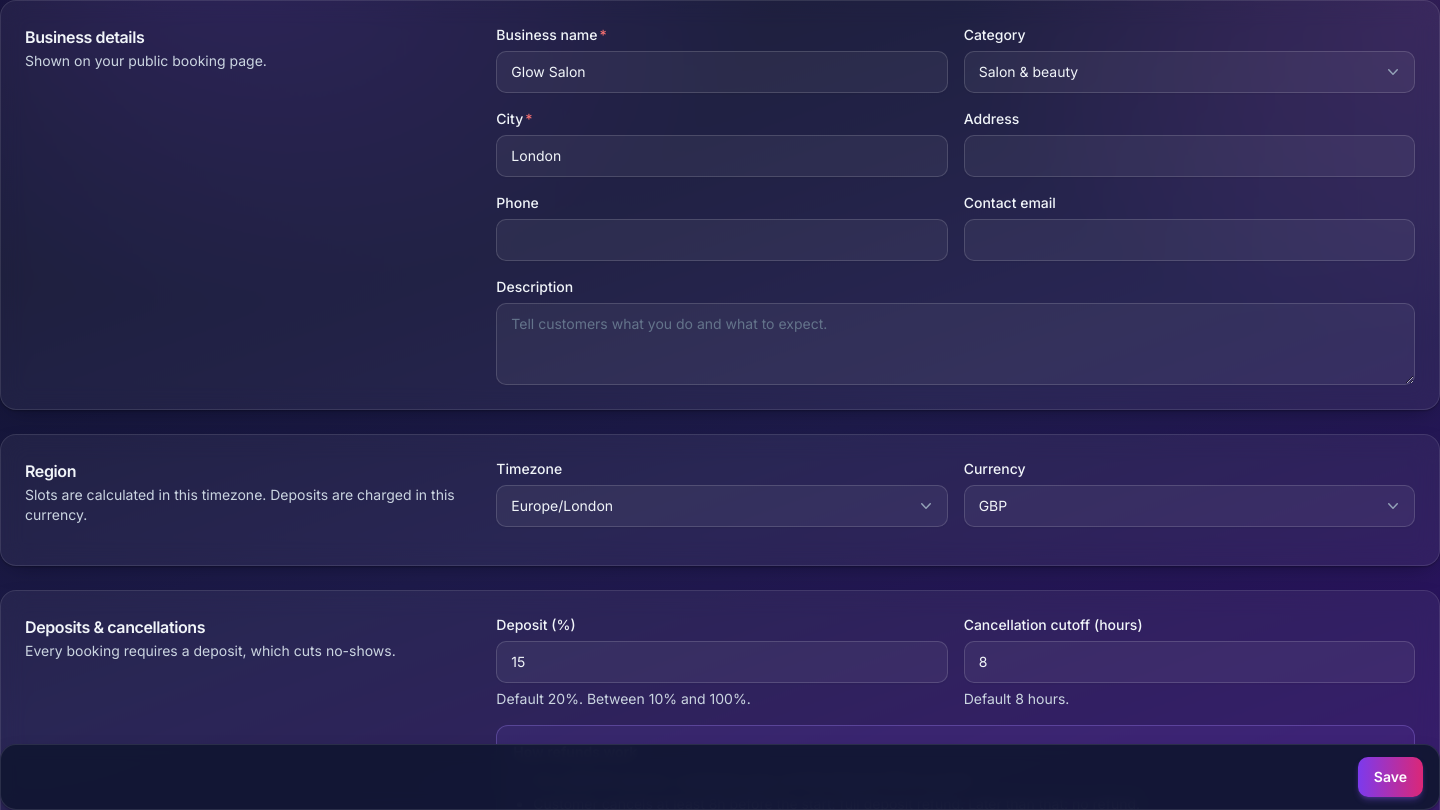
Test: BusinessForm › explains the refund rule using the current cutoff
Replace the text in the number field labelled "Cancellation cutoff (hours)" with "24" at (1189, 662), box [964,641,1415,683]
(page scrolled)
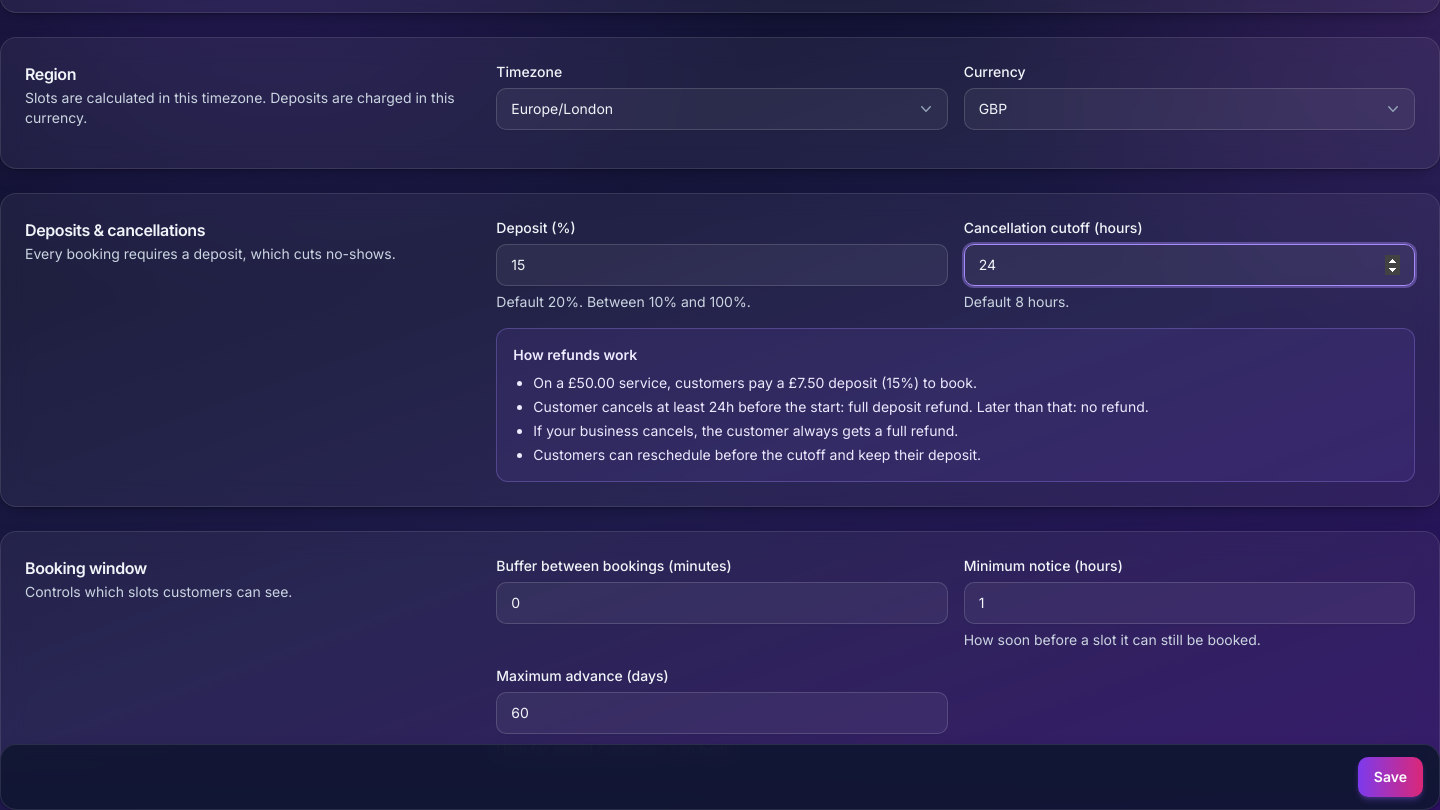
Result: the element with test id "refund-rule" shows "at least 24h before" at [533,398,1149,415]
